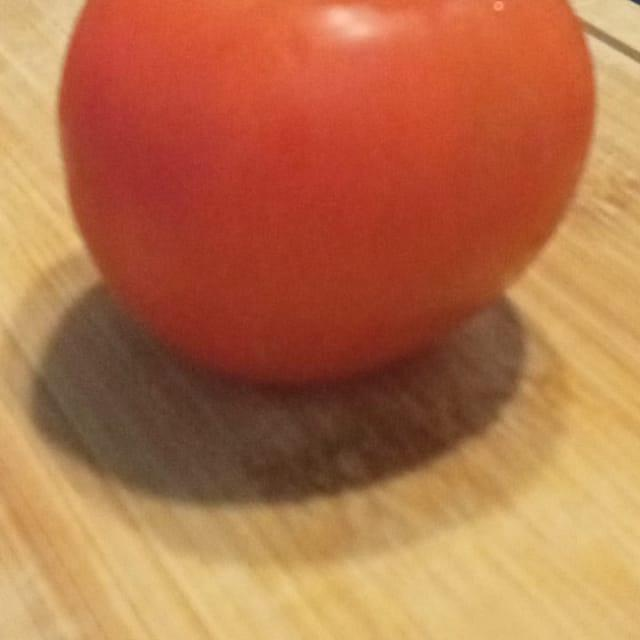tomato: (18, 0, 640, 422)
